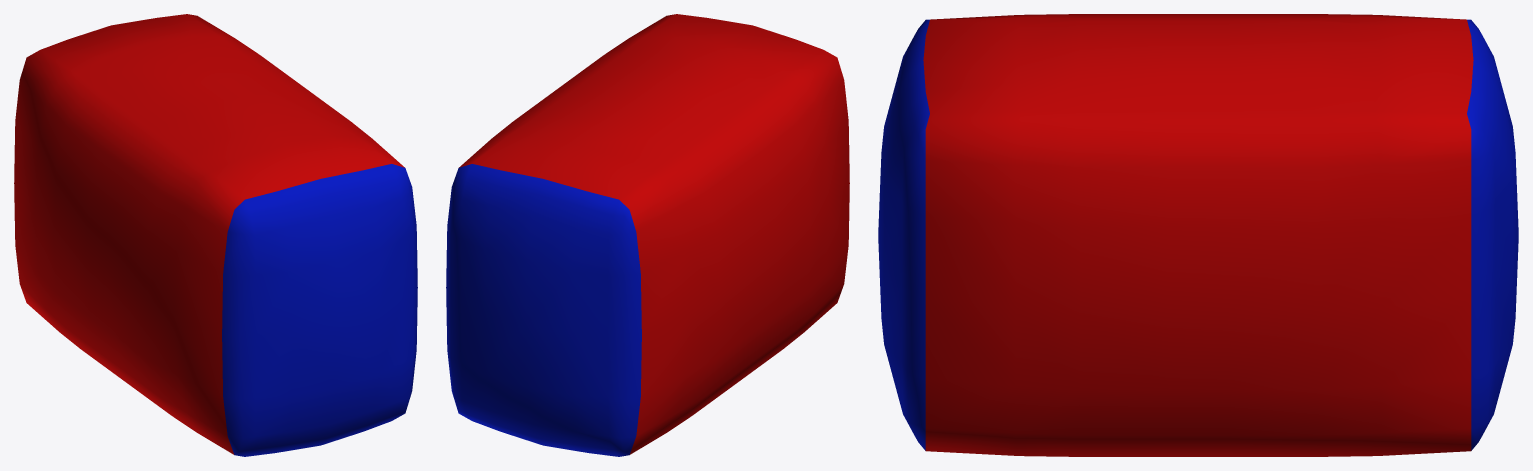
File: Lay-Down-Brick-Webview.glb
3 views of the same model, side by side, from view 1: azimuth 30°, elevation 25°; view 2: azimuth 150°, elevation 25°; view 3: azimuth 270°, elevation 25° (orthographic). The views are drawn at different scales.
Visible parts, largest first — view 1: Lay-Down-Brick; view 2: Lay-Down-Brick; view 3: Lay-Down-Brick.
Boxes of the visible parts, box(x1,y1,x2,y2) form: Lay-Down-Brick: box(14, 14, 417, 456); Lay-Down-Brick: box(446, 14, 849, 456); Lay-Down-Brick: box(878, 14, 1518, 456).
Bounding box in the file's own units: 1.19 × 1.37 × 2.1.
